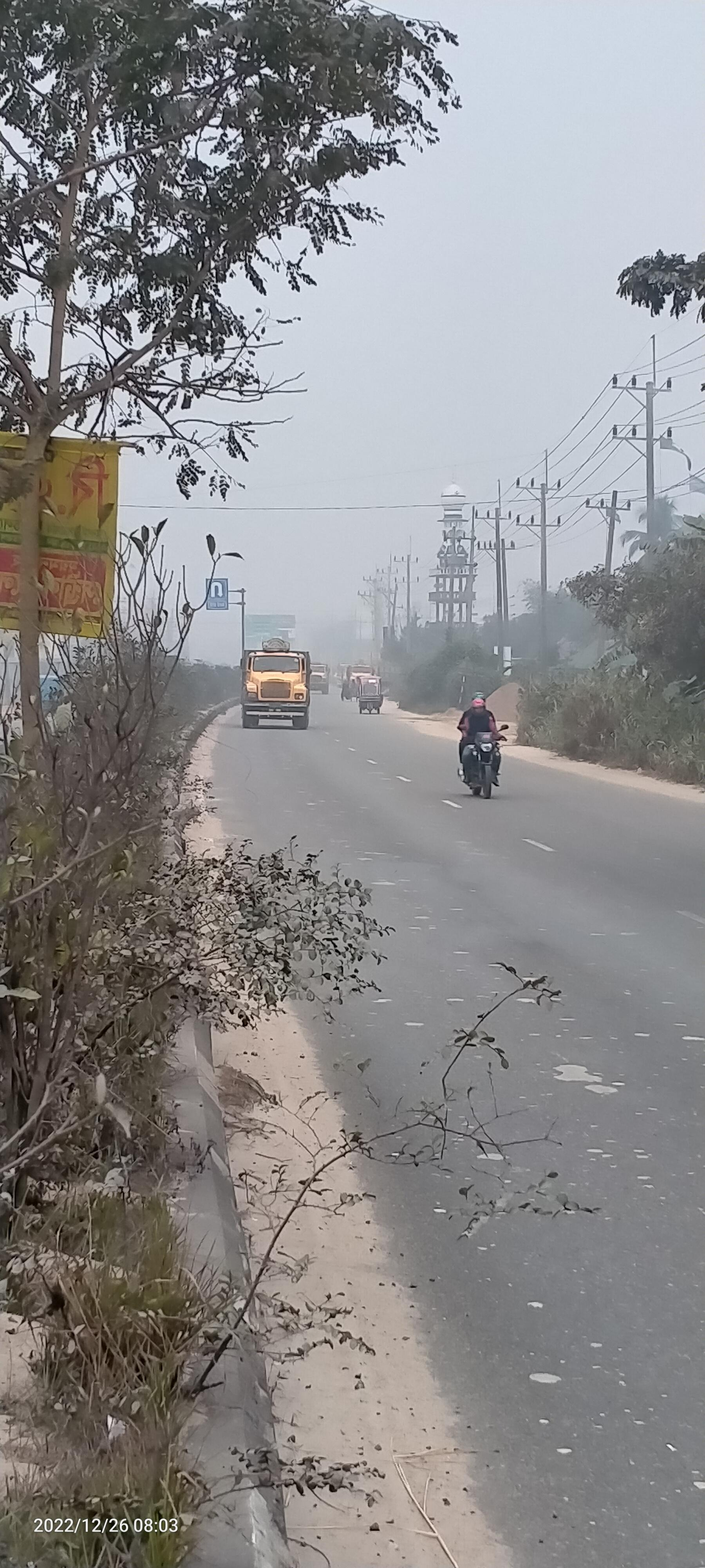Bike: (455, 690, 504, 800)
Car: (353, 675, 394, 722)
Truck: (235, 639, 314, 733), (308, 657, 331, 698)
